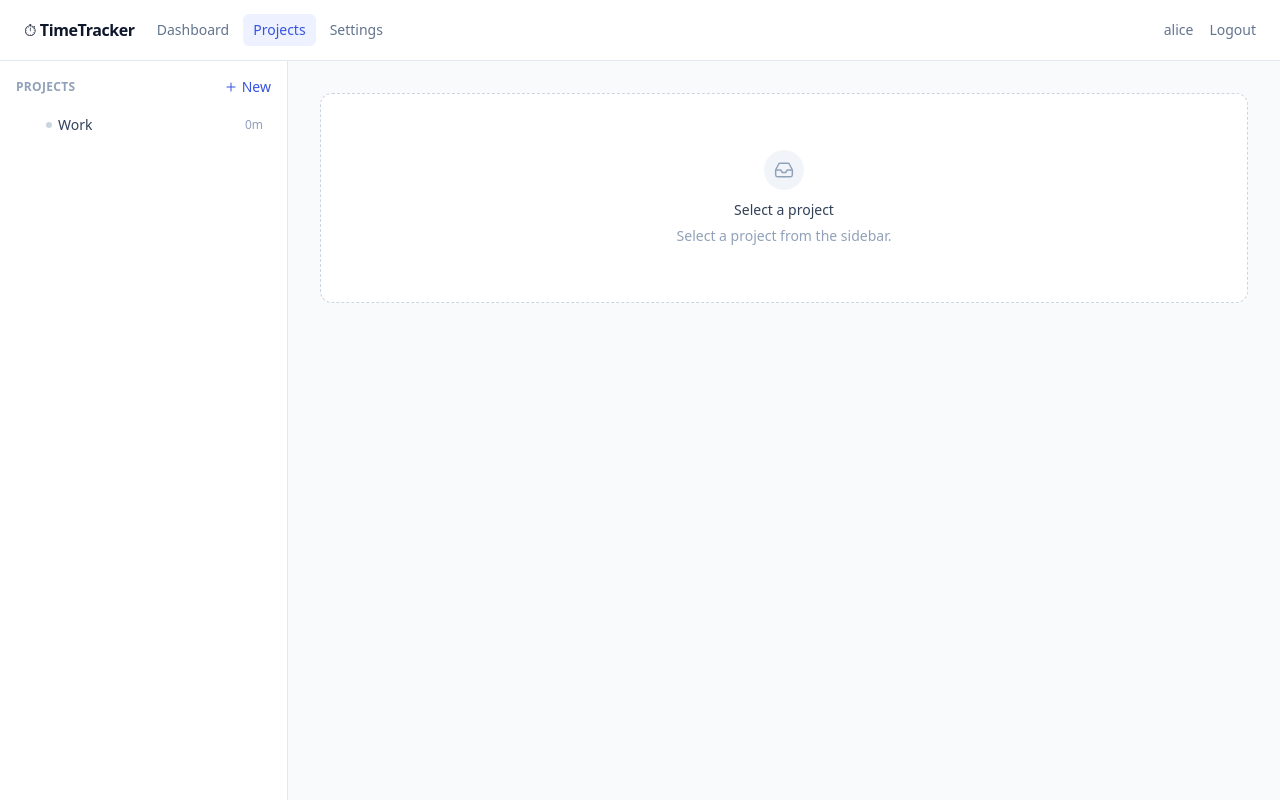
Scenario: ProjectsPage › opens edit form from detail panel
Click the element with test id "project-node-1". click: (75, 124)
box: [46, 115, 263, 135]
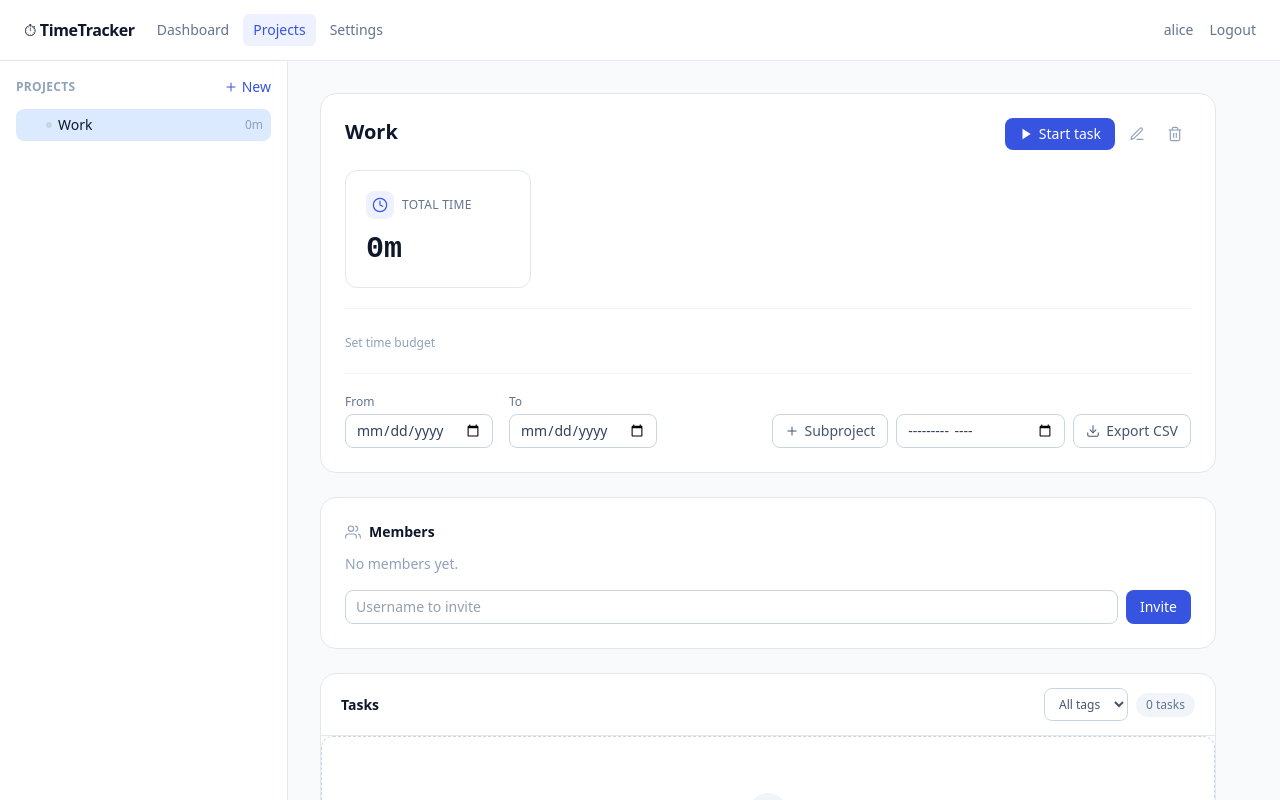
Click the button with test id "edit-button". click: (1137, 134)
box: [1121, 118, 1153, 150]
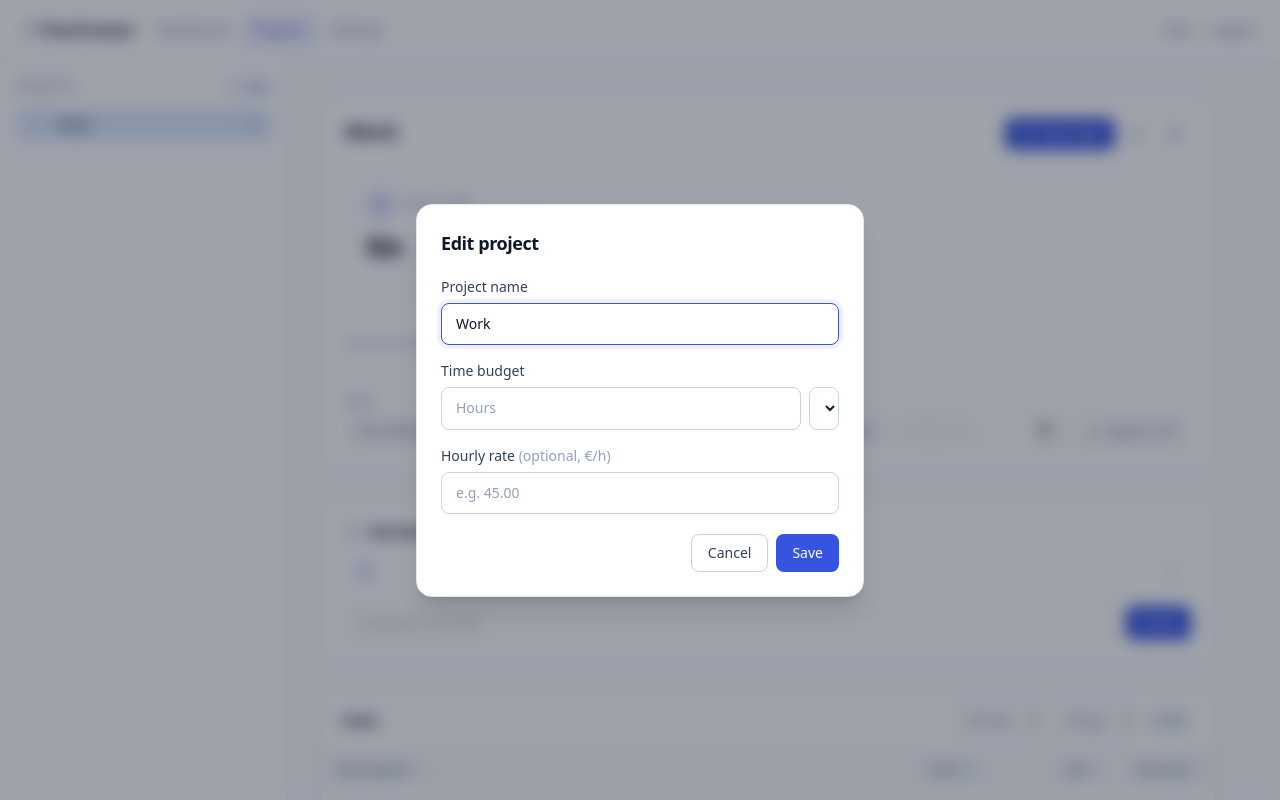
Expected: the dialog with test id "edit-form" is shown, [416, 204, 864, 596]
